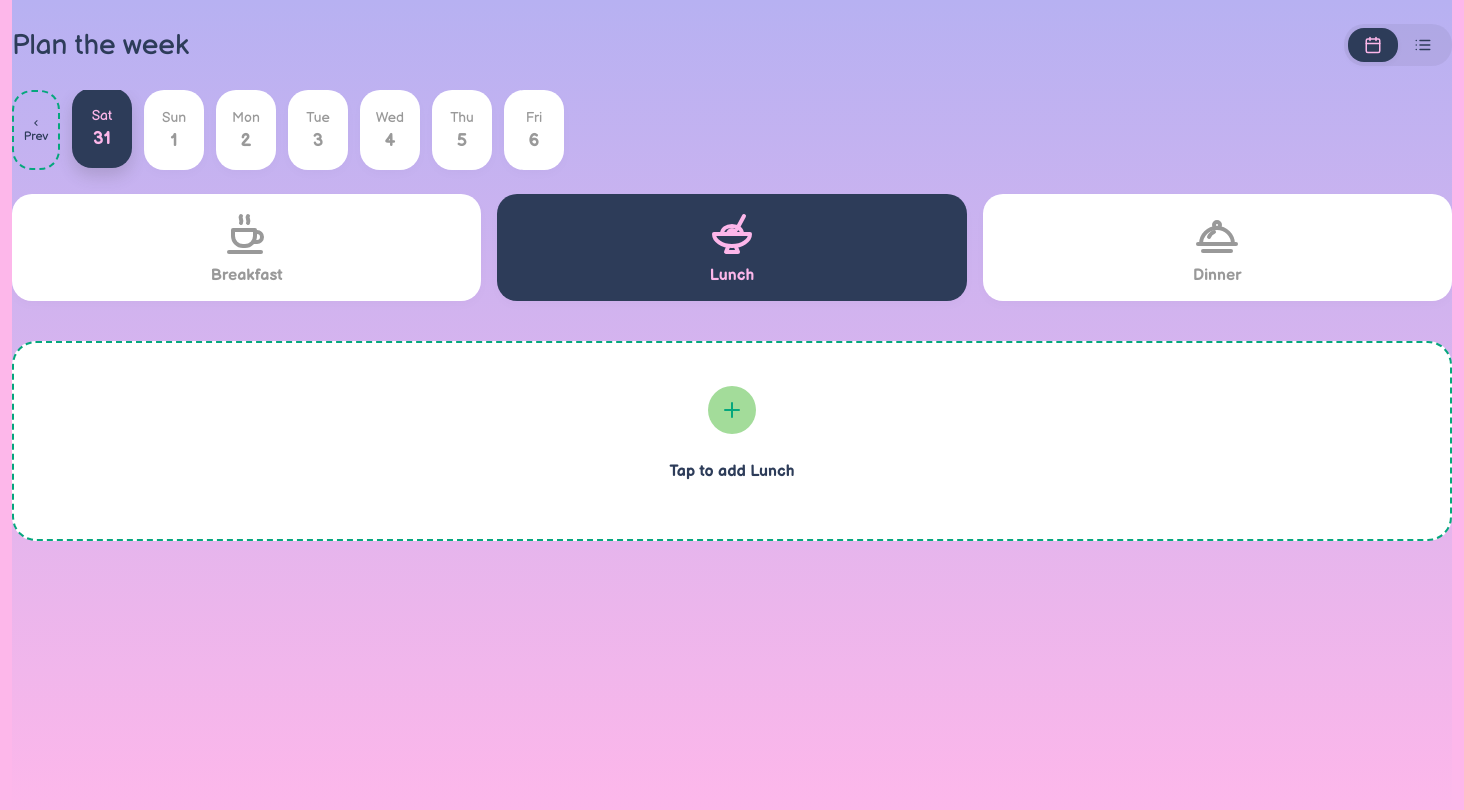
Test: MenuScreen › shows an alert when a meal cannot be saved
This screenshot has width=1464, height=810.
Click the button "Tap to add Lunch". click: (732, 441)
box: [12, 341, 1452, 541]
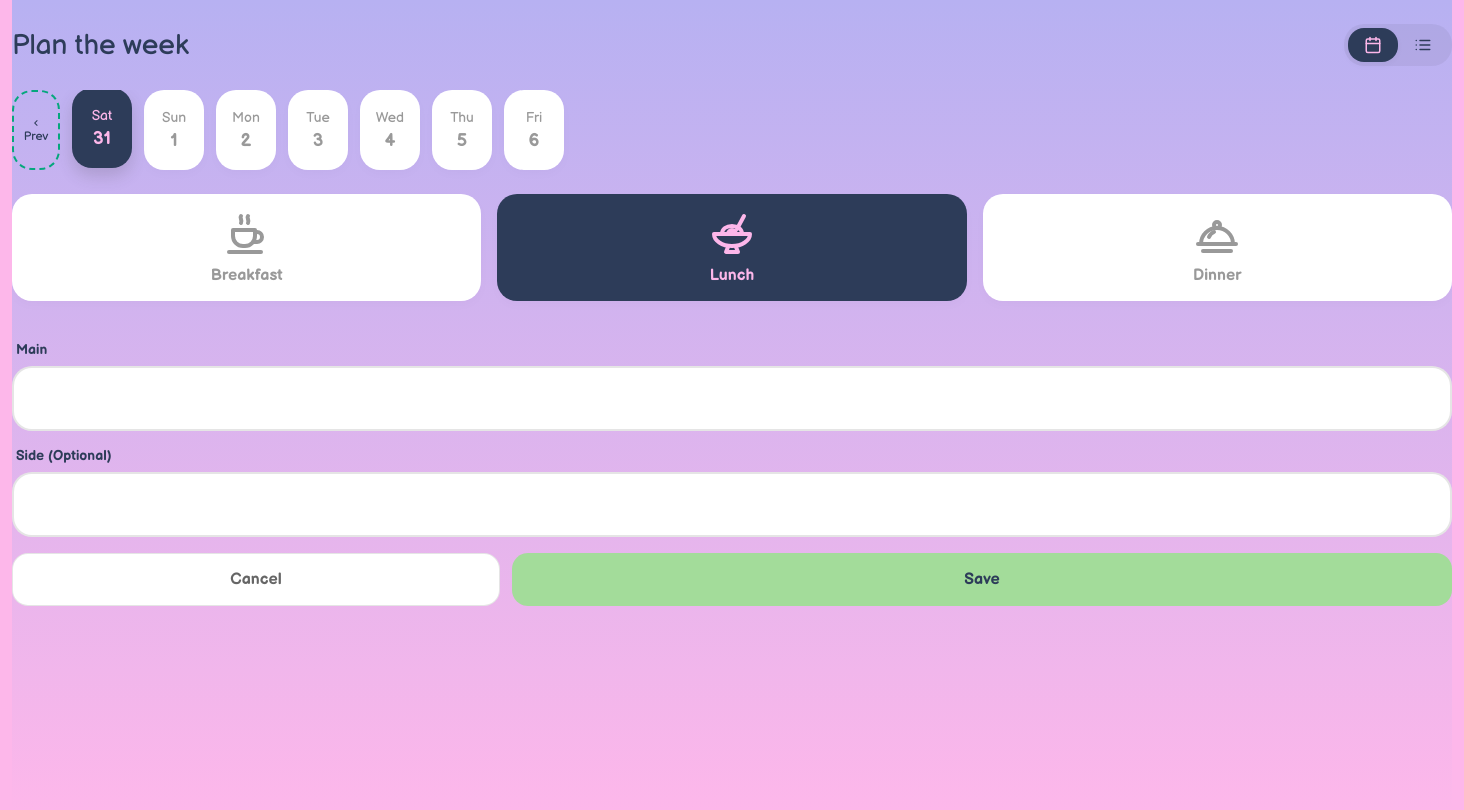
Type "Soup" into the field labelled "Main". click: (732, 398)
box: [12, 366, 1452, 431]
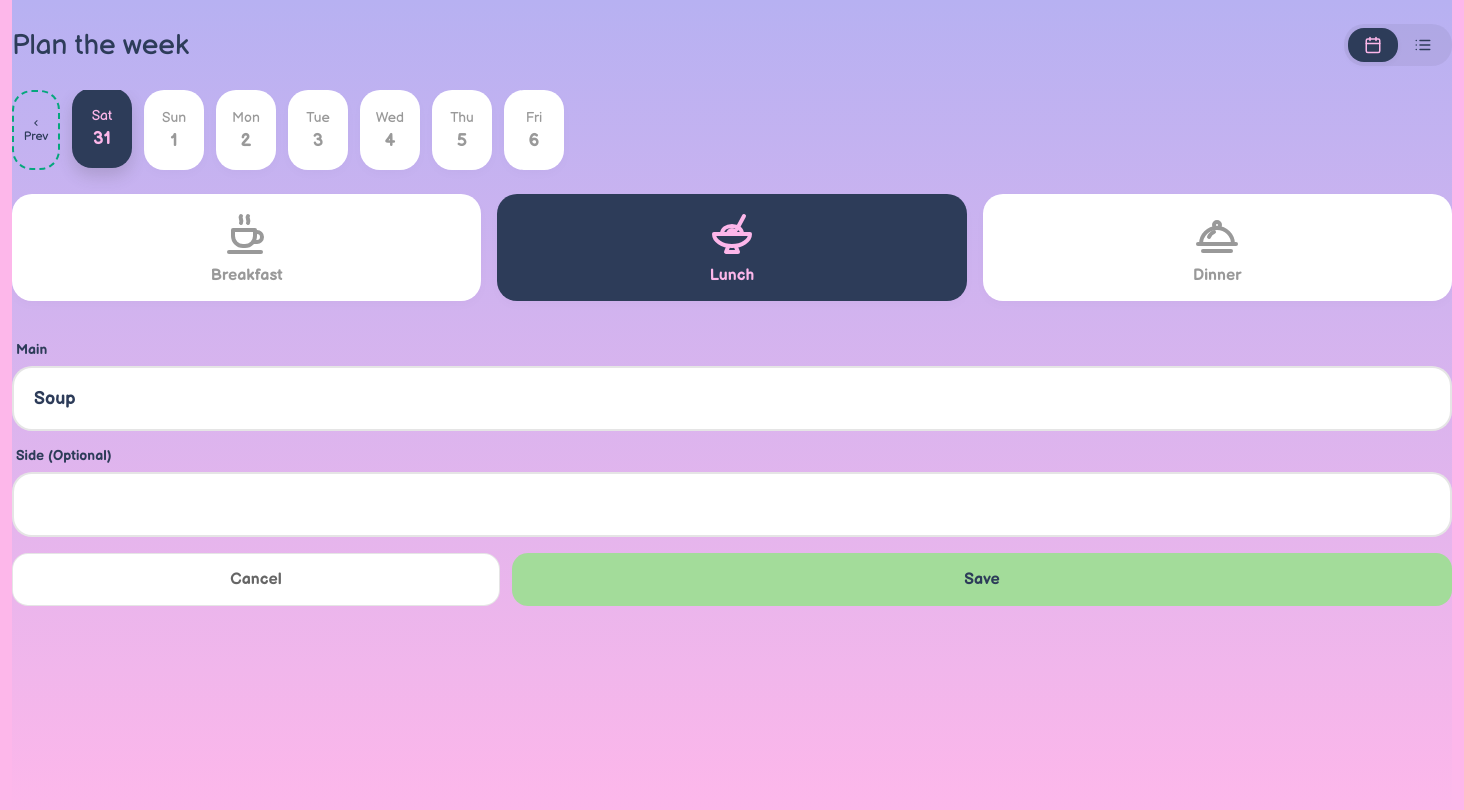
Click the button "Save". click: (982, 580)
box: [512, 553, 1452, 606]
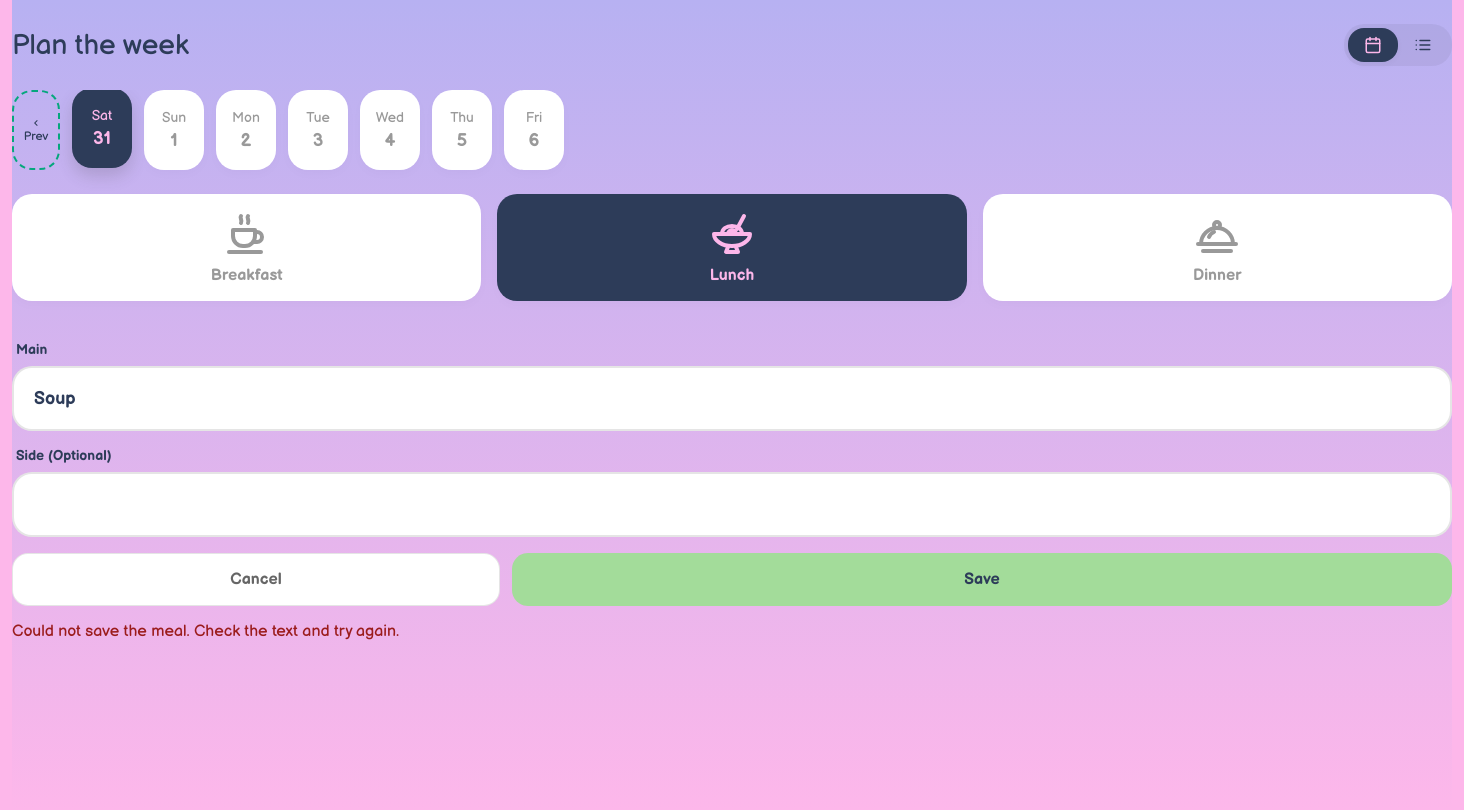
Expected: the message shows "Could not save the meal", [12, 622, 399, 641]
